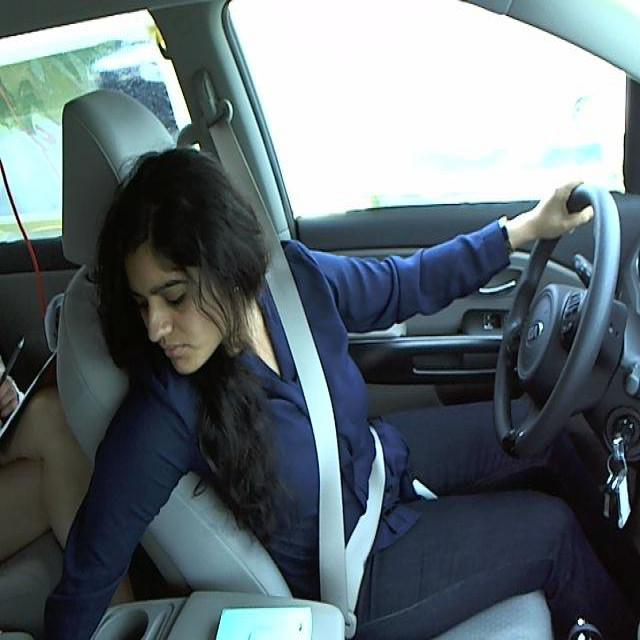seatbelt: (259, 286, 395, 582)
